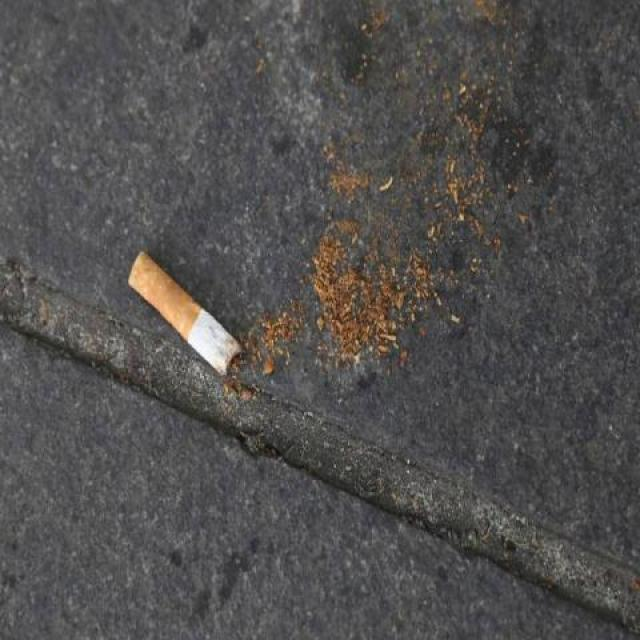non-organic waste: (122, 245, 249, 384)
